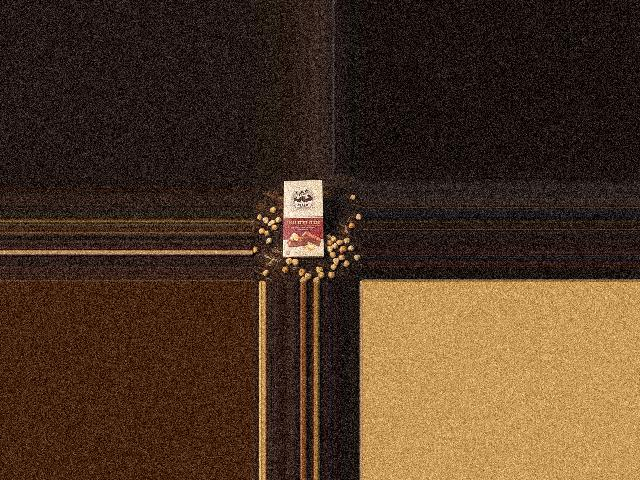chocolate: (280, 178, 327, 259)
